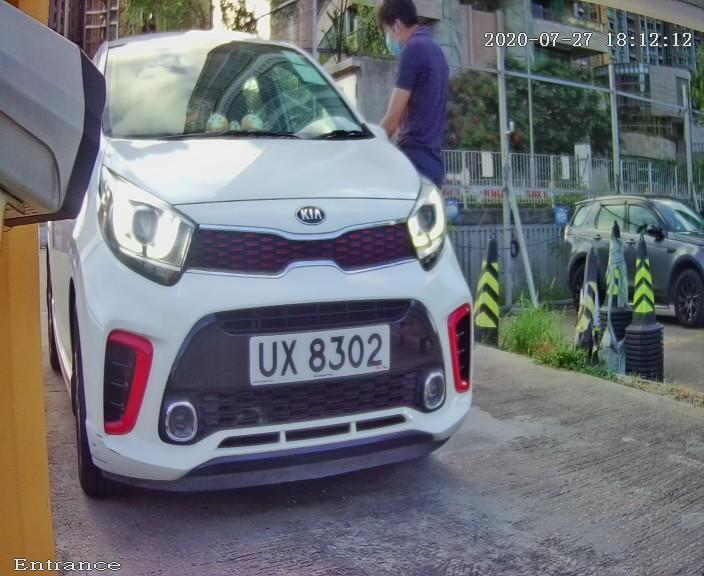privatecar: (38, 24, 535, 505)
